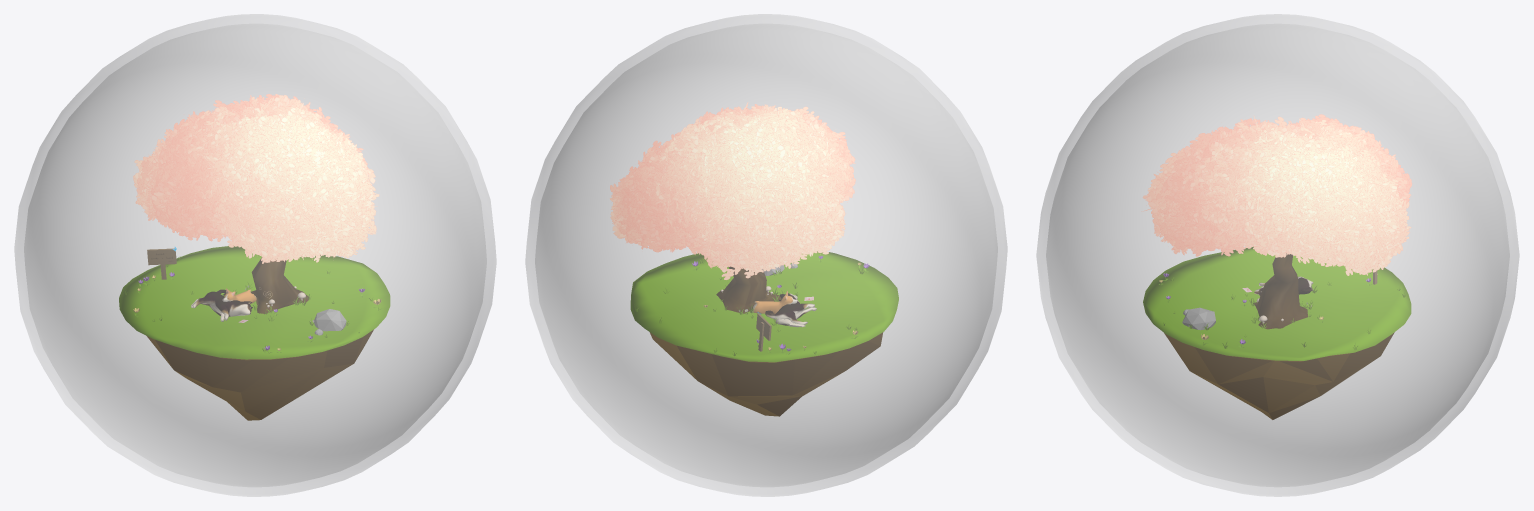
Rendered from tree.6b.gltf.
The picture shows the model from 3 angles, left to right: view 1: azimuth 30°, elevation 25°; view 2: azimuth 150°, elevation 25°; view 3: azimuth 270°, elevation 25°; orthographic projection.
Visible parts, largest first — view 1: orb, Plane.0, base, base.001, tree-bark, shibe, Rock; view 2: orb, Plane.0, base, base.001, tree-bark, shibe; view 3: orb, Plane.0, base, base.001, tree-bark, Rock.
Part boxes in pixels (x1,y1,x2,y2): orb: (14,14,496,496); Plane.0: (133,94,379,263); base: (119,246,390,360); base.001: (147,330,373,420); tree-bark: (251,258,308,313); shibe: (191,289,252,321); Rock: (314,309,346,331); orb: (525,14,1007,496); Plane.0: (610,102,855,279); base: (630,251,898,362); base.001: (650,332,882,416); tree-bark: (716,266,781,313); shibe: (765,293,816,327); orb: (1036,14,1519,496); Plane.0: (1143,114,1411,275); base: (1143,247,1411,361); base.001: (1164,332,1394,419); tree-bark: (1253,253,1307,329); Rock: (1182,307,1215,330).
Bounding box in the file's own units: 22.69 × 22.69 × 22.69.
Materials: 19 (6 with a texture image).
